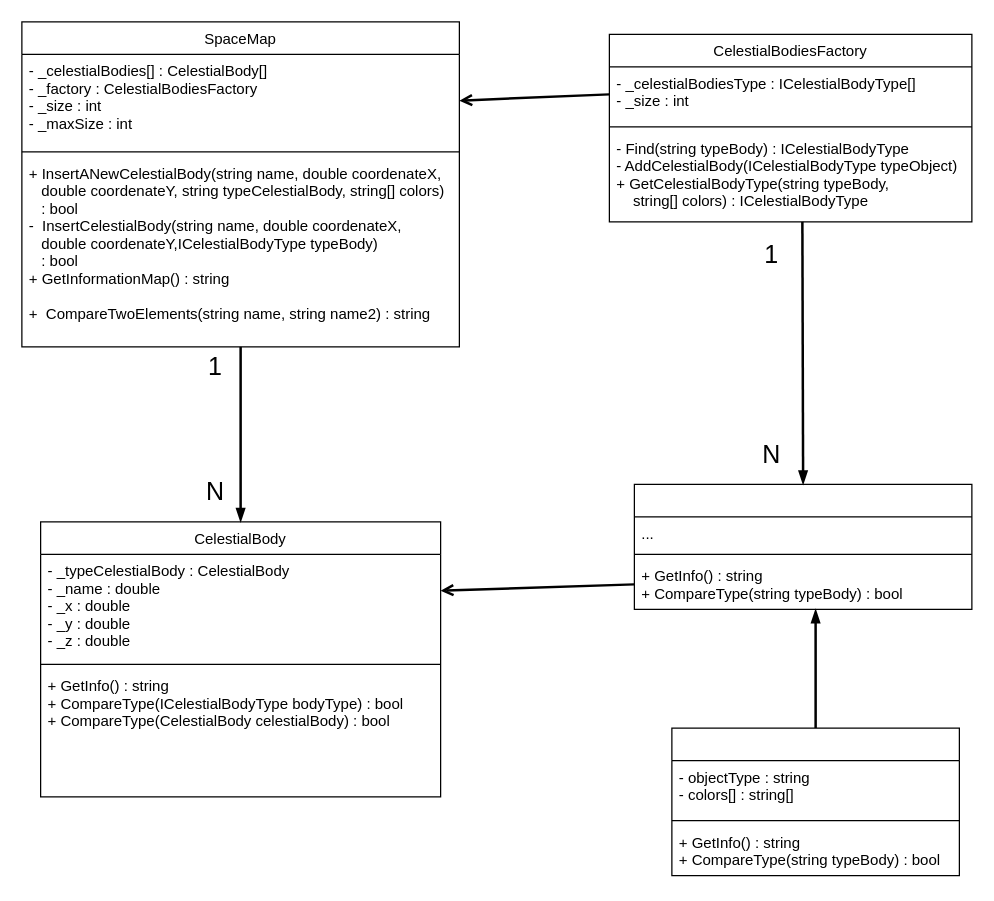
The diagram is 994 pixels wide and 901 high, and some of its shapes have lost their labels. Each missing label, with the box of its shape:
CelestialBodyType: (671, 727, 959, 876)
ICelestialBodyType: (633, 483, 972, 609)
